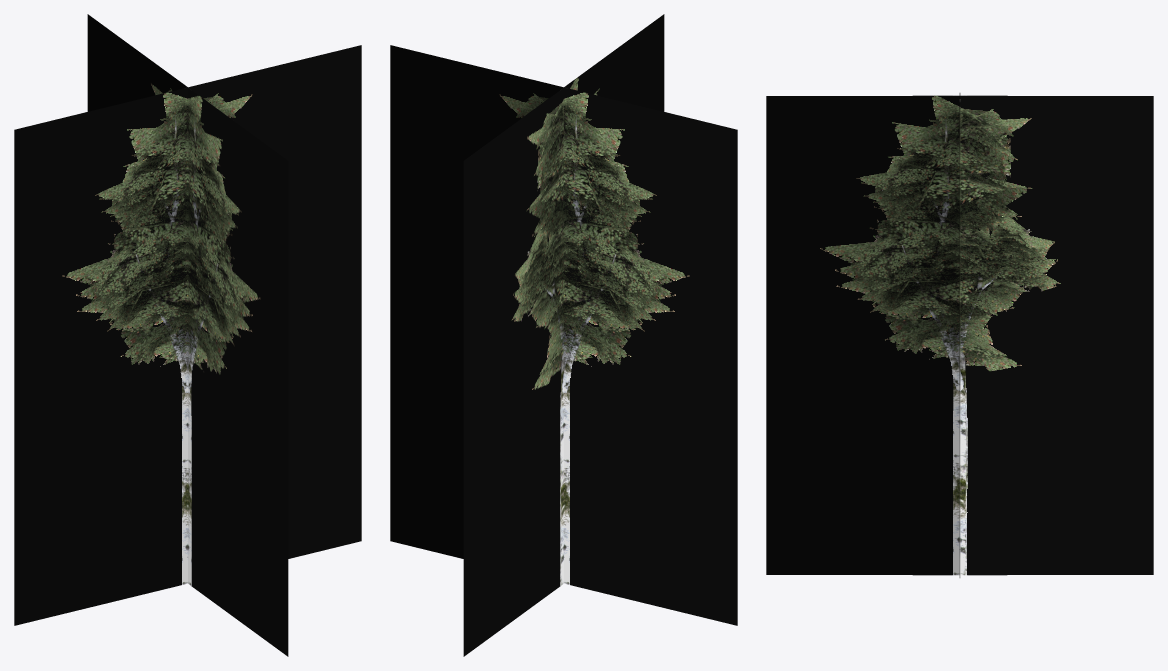
The model's file is tree_lvl_1.obj.
3 renders of one model, left to right at view 1: azimuth 30°, elevation 25°; view 2: azimuth 150°, elevation 25°; view 3: azimuth 270°, elevation 25°, orthographic. The views are drawn at different scales.
Parts seen in each view (by area): view 1: birch_tree_fan_LOD_3000_CreateFan; view 2: birch_tree_fan_LOD_3000_CreateFan; view 3: birch_tree_fan_LOD_3000_CreateFan.
Boxes of the visible parts, x1,y1,x2,y2 form: birch_tree_fan_LOD_3000_CreateFan: (14, 14, 361, 656); birch_tree_fan_LOD_3000_CreateFan: (390, 14, 737, 656); birch_tree_fan_LOD_3000_CreateFan: (766, 93, 1153, 577).
Size of the model in its own units: 6.36 by 8.67 by 6.36.
